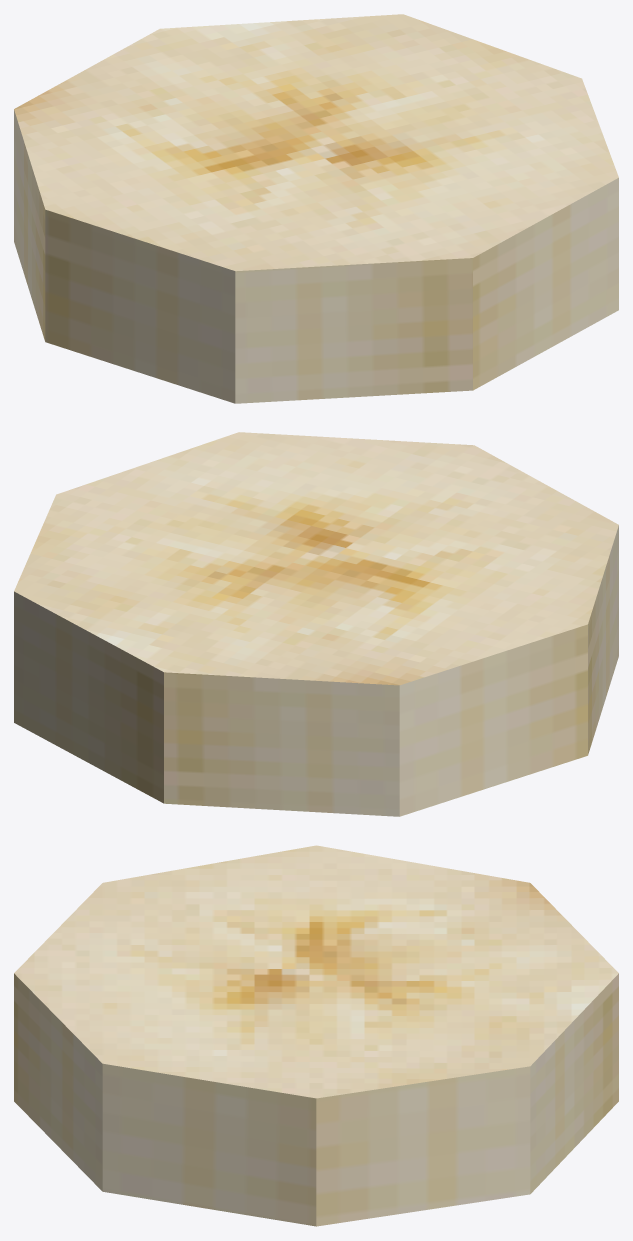
Rendered from bananaPart.fbx.
3 views of the same model, one above another, from view 1: azimuth 30°, elevation 25°; view 2: azimuth 150°, elevation 25°; view 3: azimuth 270°, elevation 25° (orthographic). The views are drawn at different scales.
Parts seen in each view (by area): view 1: BananaPart; view 2: BananaPart; view 3: BananaPart.
Boxes of the visible parts, box(x1,y1,x2,y2) form: BananaPart: box(14, 14, 618, 403); BananaPart: box(14, 432, 618, 816); BananaPart: box(14, 845, 618, 1226).
Size of the model in its own units: 198 by 46.72 by 200.
Materials: 2 (2 with a texture image).
